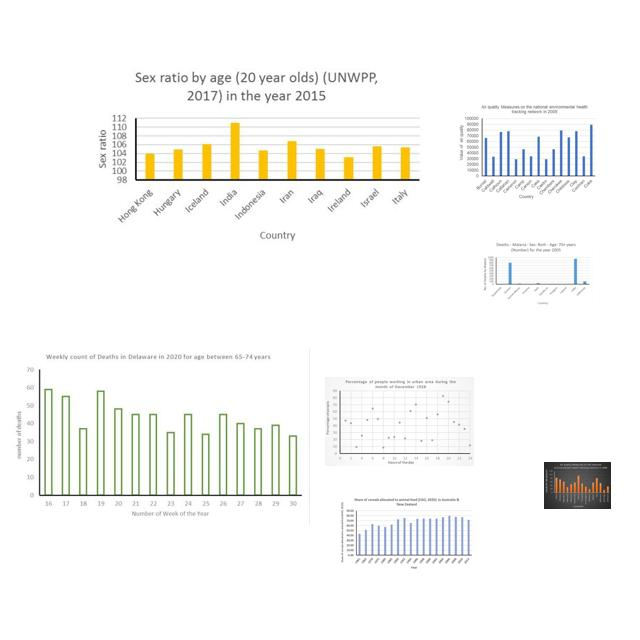Graph: (87, 62, 423, 249), (8, 348, 310, 525), (456, 102, 598, 202), (325, 377, 474, 466), (339, 495, 475, 572), (481, 241, 593, 308), (544, 462, 611, 509)
